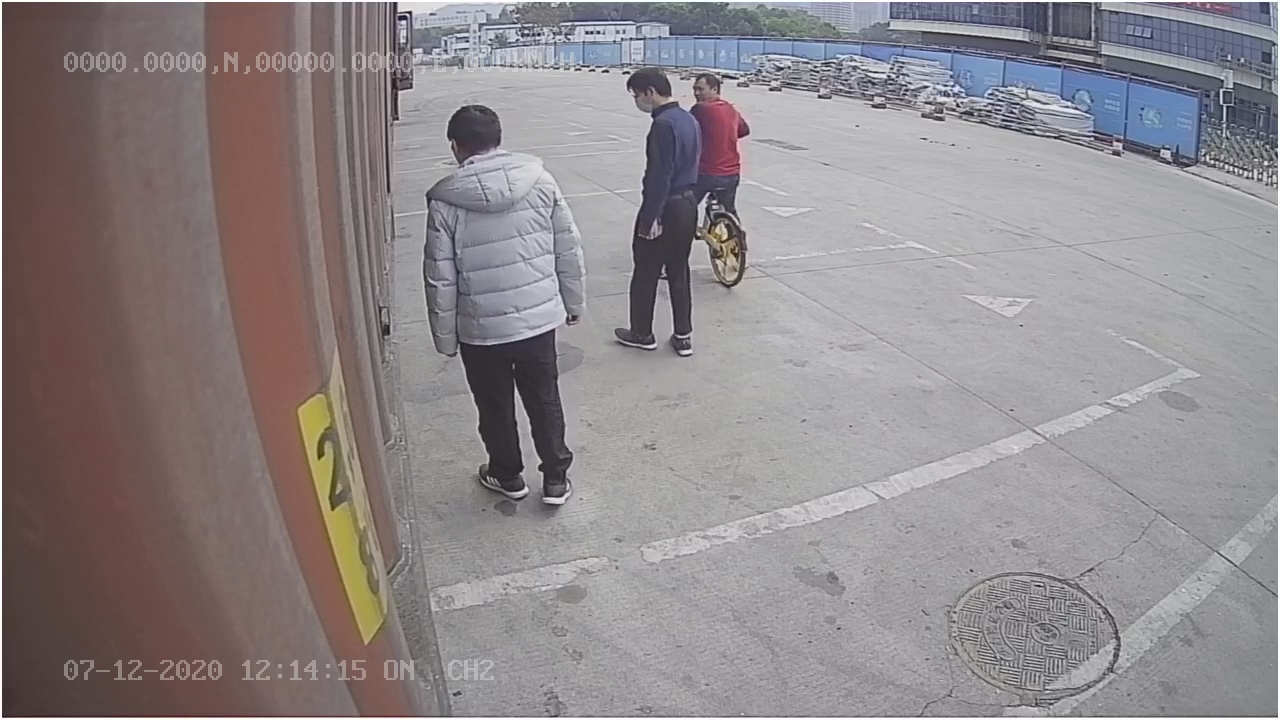person: (419, 95, 589, 507)
